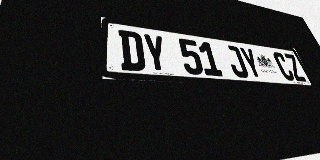1: (196, 41, 223, 76)
5: (178, 38, 205, 75)
C: (271, 51, 296, 81)
D: (118, 29, 146, 72)
J: (223, 45, 250, 78)
Y: (142, 33, 169, 73), (238, 47, 264, 79)
Z: (283, 53, 307, 82)
